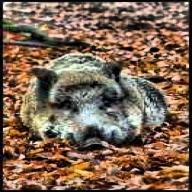boar: (28, 46, 177, 146)
